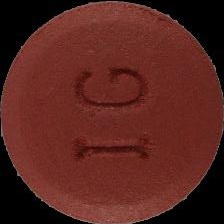31722-269: (0, 0, 224, 224)
